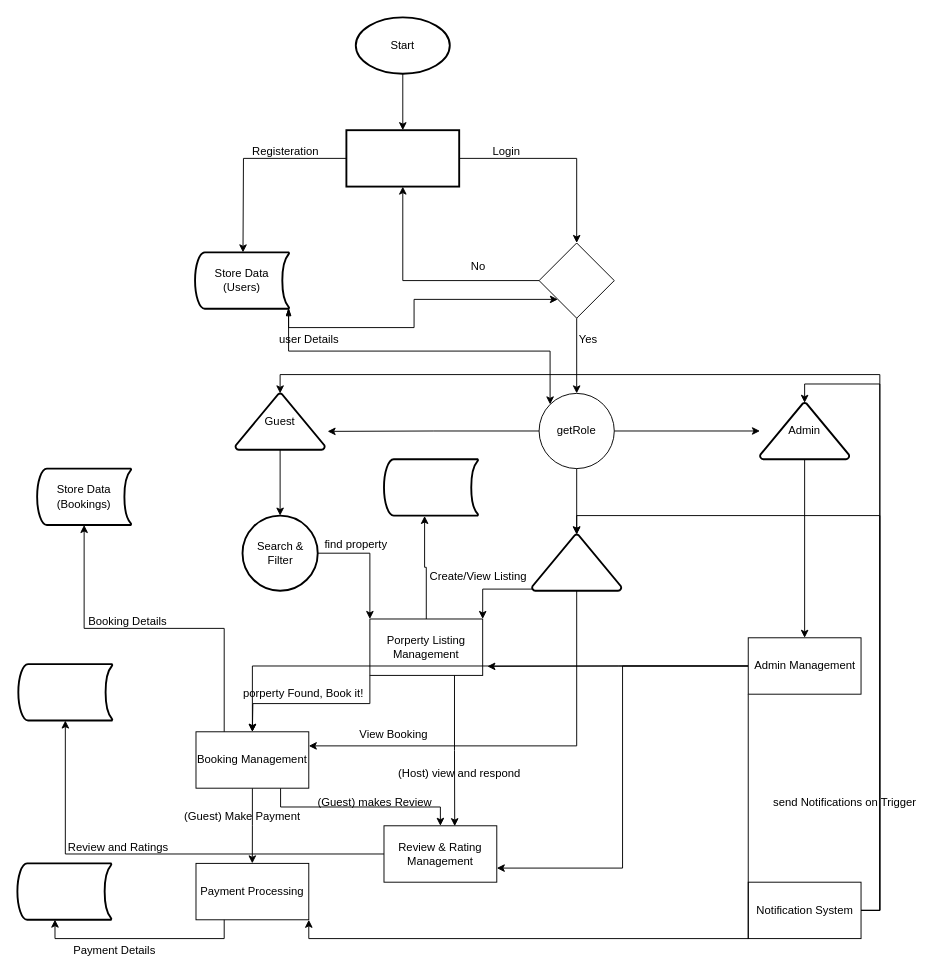
The diagram is 945 pixels wide and 980 high, and some of its shapes have lost their labels. Here are the shapes that lost their labels. From the top down, the box of each, then its label:
(345, 129, 460, 187): User Registration & Authentication
(538, 242, 614, 318): Valid Credentials?
(383, 458, 478, 516): Store Data (Properties)
(531, 533, 622, 591): Host
(17, 663, 113, 721): Store Data (Reviews)
(16, 862, 112, 920): Store Data (Paymentss)
